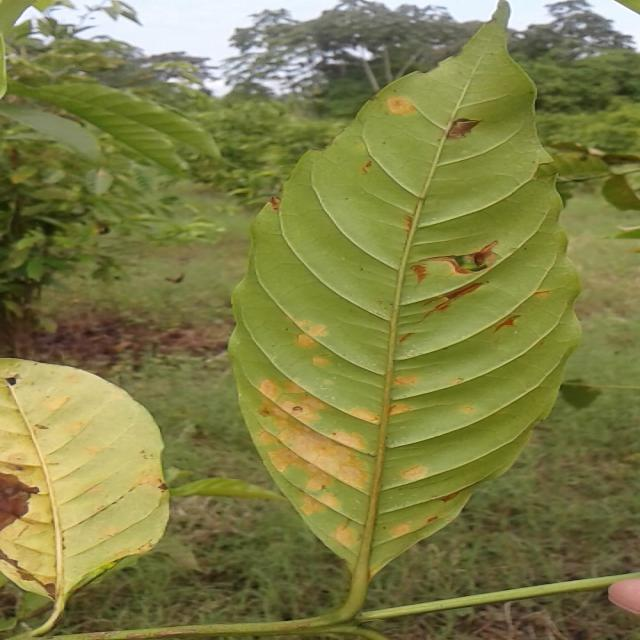Enfermedad-Roya: (227, 0, 583, 626)
